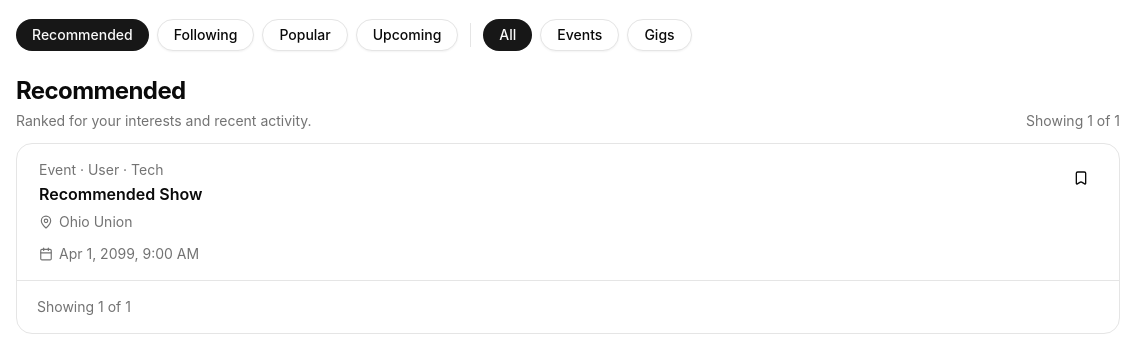
it: [phase:6] [regression:always] FeaturedPage › TC-FEED-015: keeps rendering healthy sections when others are empty or fail
The width and height of the screenshot is (1137, 351).
Check: the heading "Recommended Show" is shown, box [39,184,202,204]
Click the tab "Popular": coordinates (305, 35) [262,19,348,51]
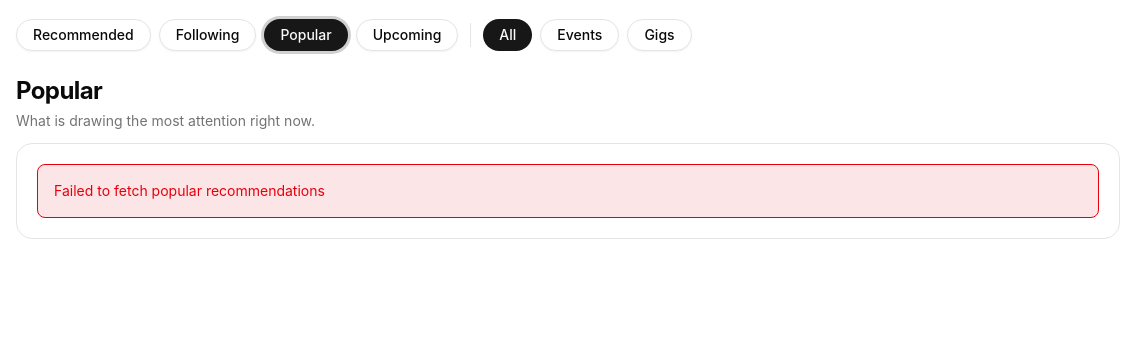
Click the tab "Upcoming": coordinates (407, 35) [356,19,458,51]
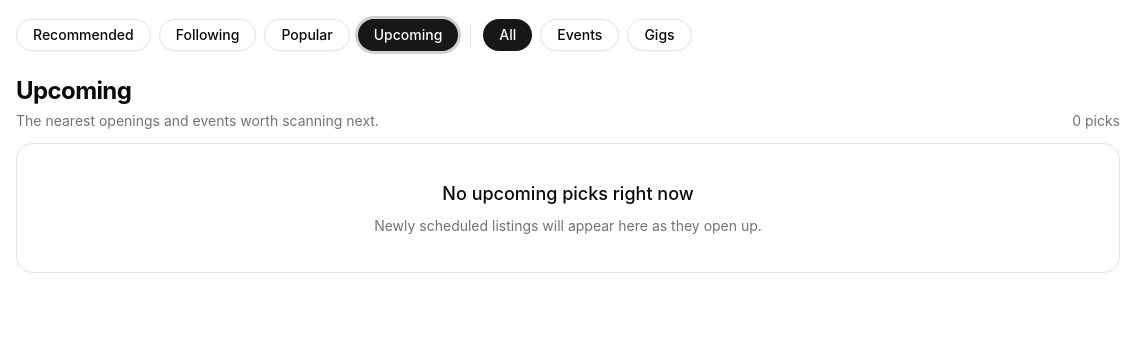
Check: the text "No upcoming picks right now" is shown, box [442,180,694,208]
